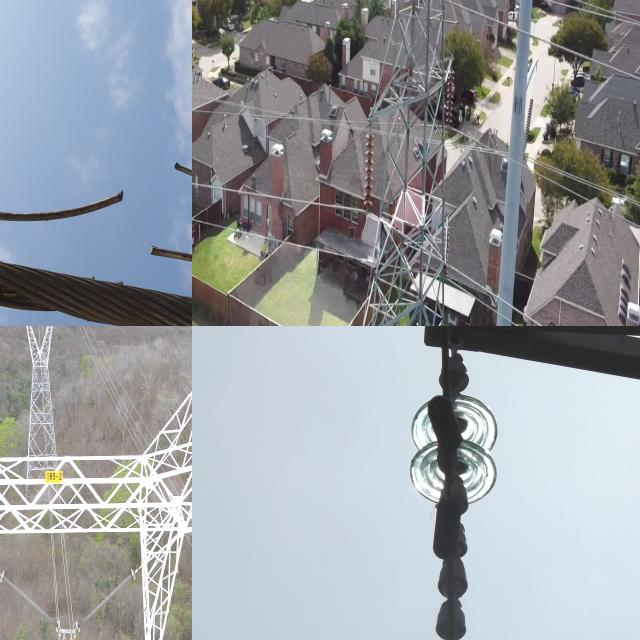杆塔: (0, 368, 192, 640), (346, 0, 454, 326)
正常电缆: (459, 129, 640, 231), (465, 0, 640, 88), (192, 205, 352, 269), (192, 170, 353, 217), (470, 274, 554, 326), (548, 0, 640, 34), (462, 281, 530, 326)
正常绝缘子: (397, 357, 497, 640), (74, 566, 137, 635), (0, 570, 60, 633), (362, 124, 378, 218), (444, 56, 456, 135)
电缆破损: (0, 156, 192, 326)
绝缘子破损: (431, 532, 469, 569), (436, 572, 469, 610), (434, 490, 469, 522), (434, 616, 467, 640)
